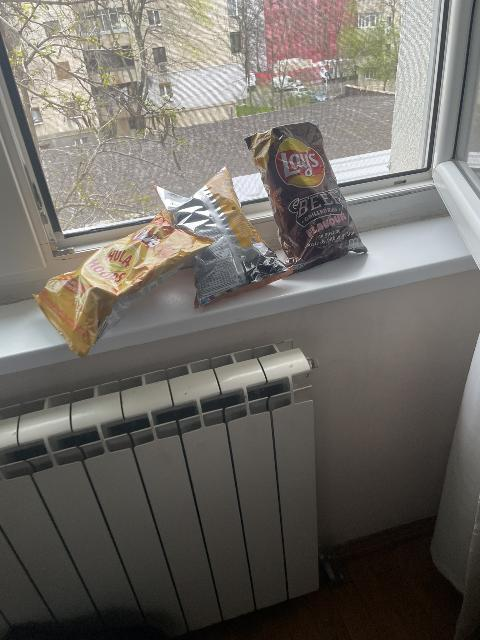Chio Cascaval 125g: (160, 170, 285, 307)
Chio Hula Hoops Cheese 70g: (31, 203, 214, 341)
Lays Beef Grilled Ribs 125g: (248, 120, 368, 269)
